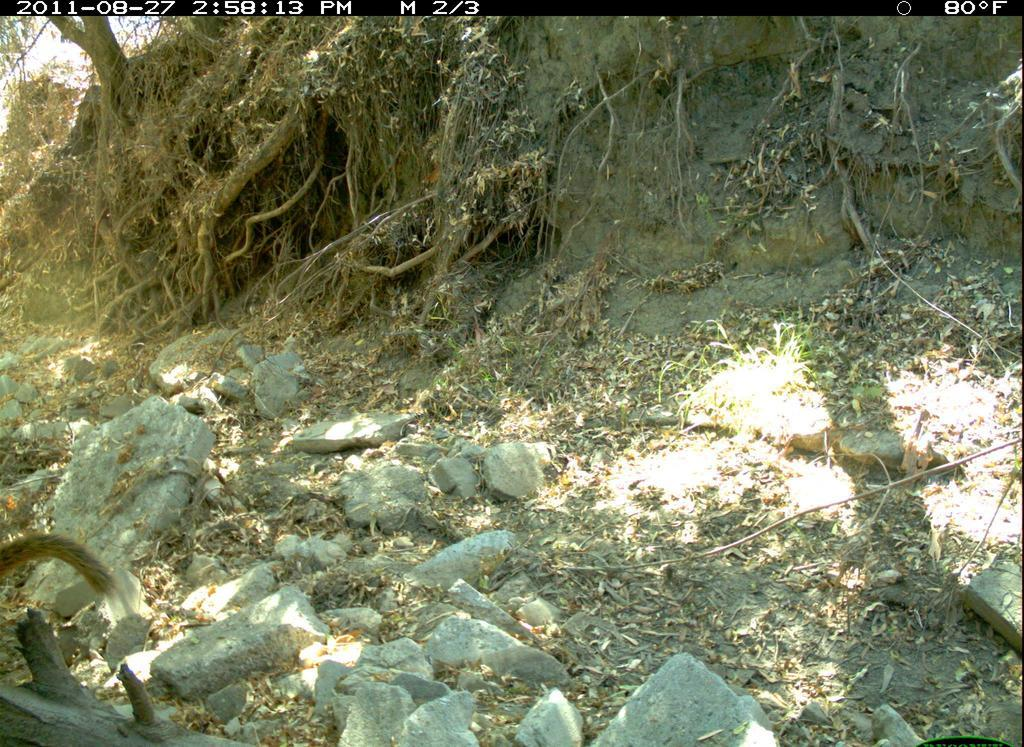squirrel: (4, 532, 120, 619)
